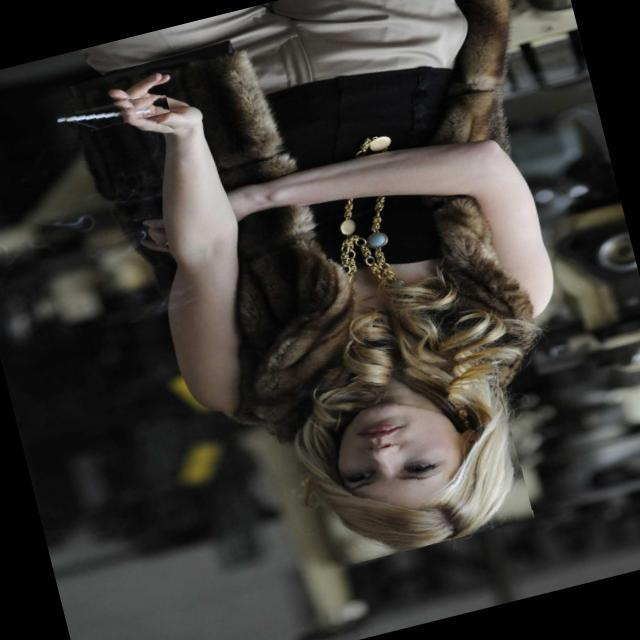cigarette: (28, 81, 170, 146)
